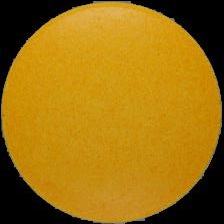53808-0303: (0, 0, 224, 224)
